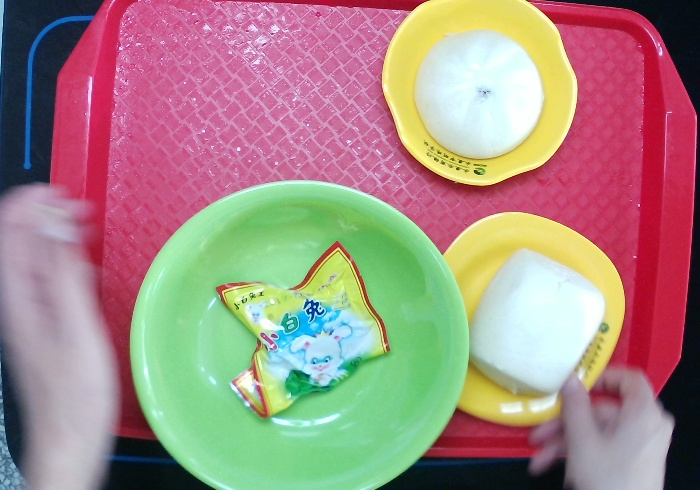YKMZ-Huang_Se_Ao_Bian_Wan: (381, 1, 580, 190)
YKMZ-Huang_Se_Fang_Die: (442, 211, 628, 430)
YKMZ-Lv_Se_Tang_Wan: (128, 177, 468, 490)
